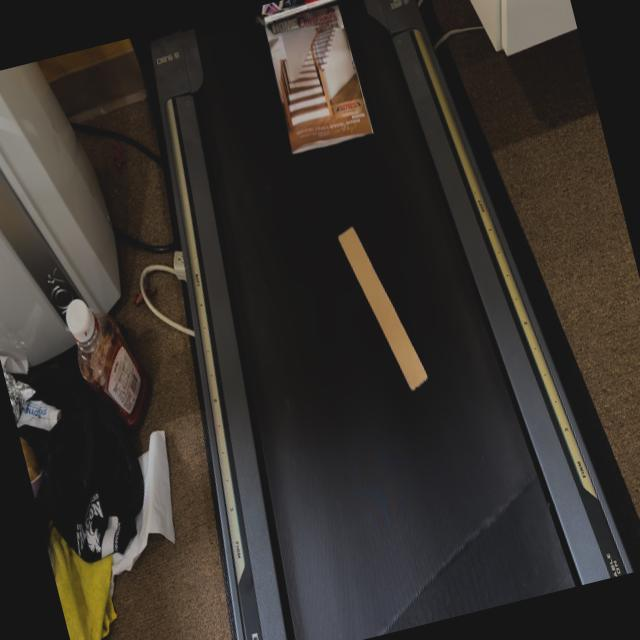Recycle: (323, 204, 442, 406), (260, 0, 386, 165)
